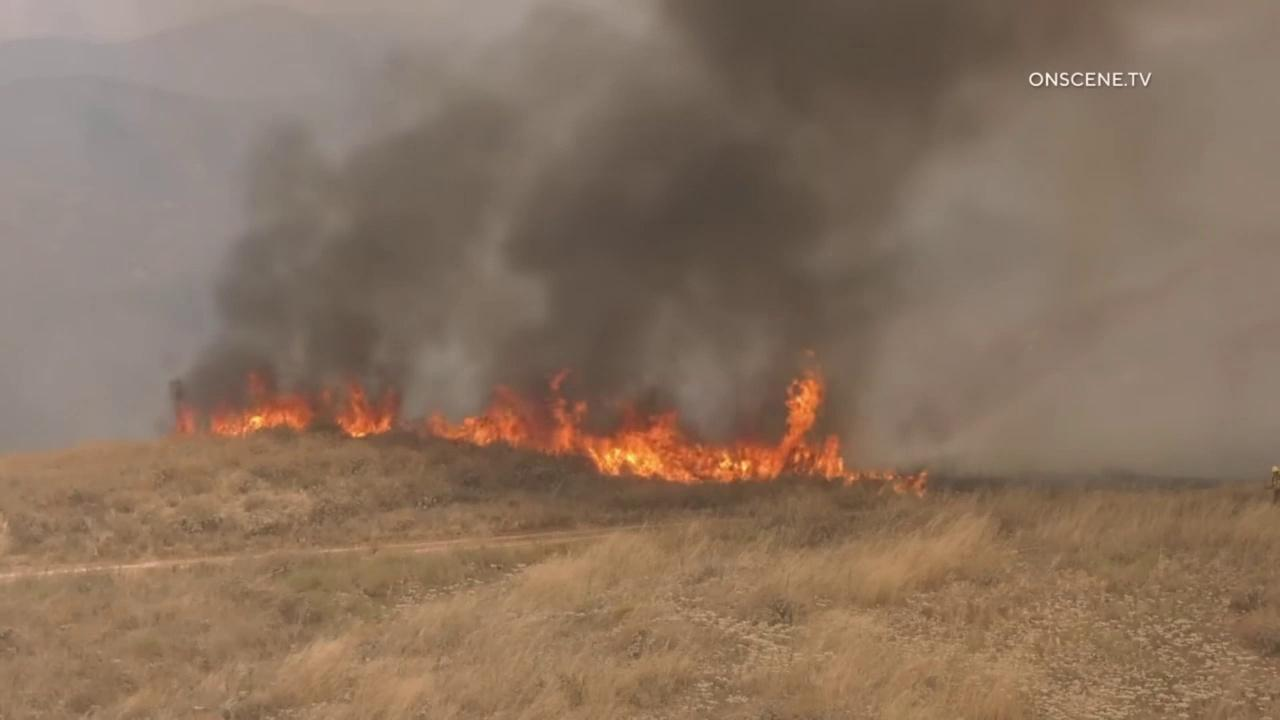fire: (171, 361, 928, 501)
smoke: (0, 0, 1280, 483)
